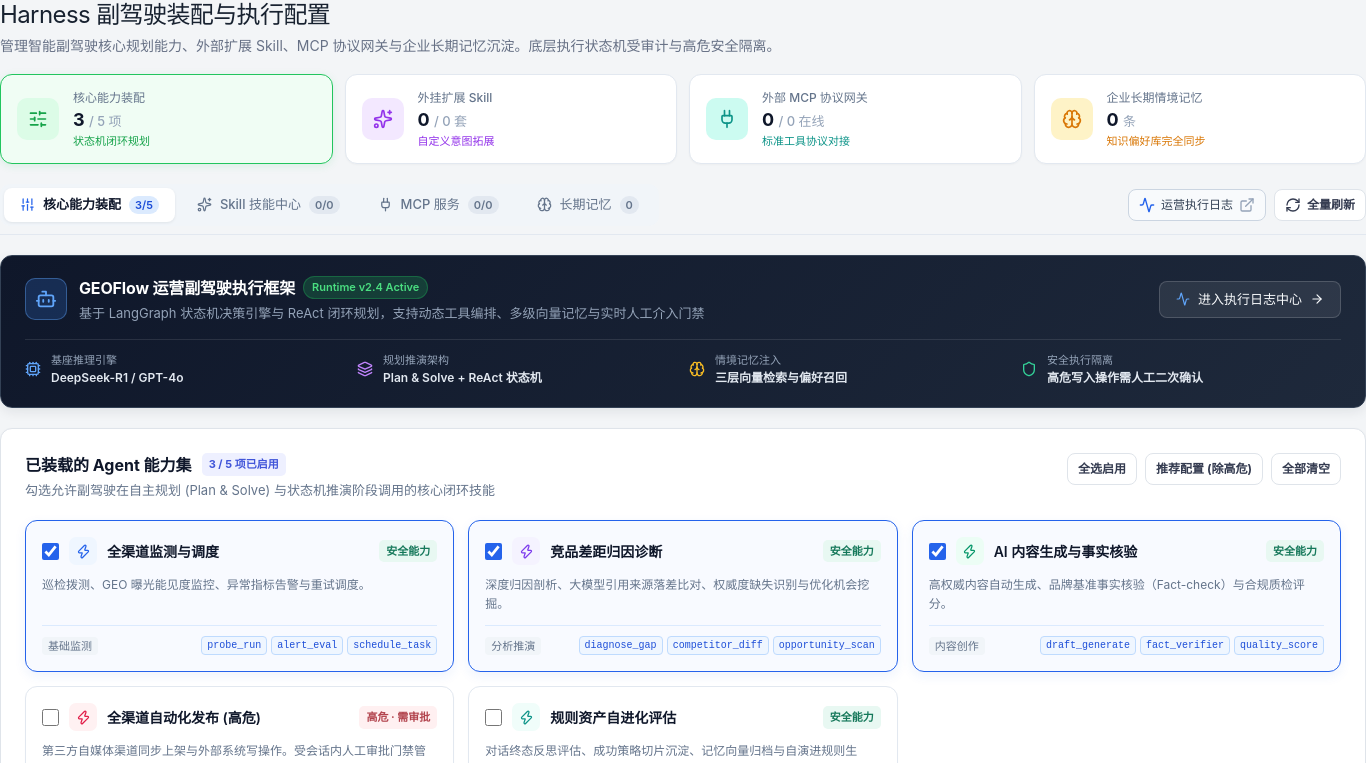
Test case: HarnessConfigView Component › switches to "长期记忆" tab and displays knowledge entries and filtering
The width and height of the screenshot is (1366, 763).
Click the tab "长期记忆 0" at (588, 205), box [520,188,655,222]
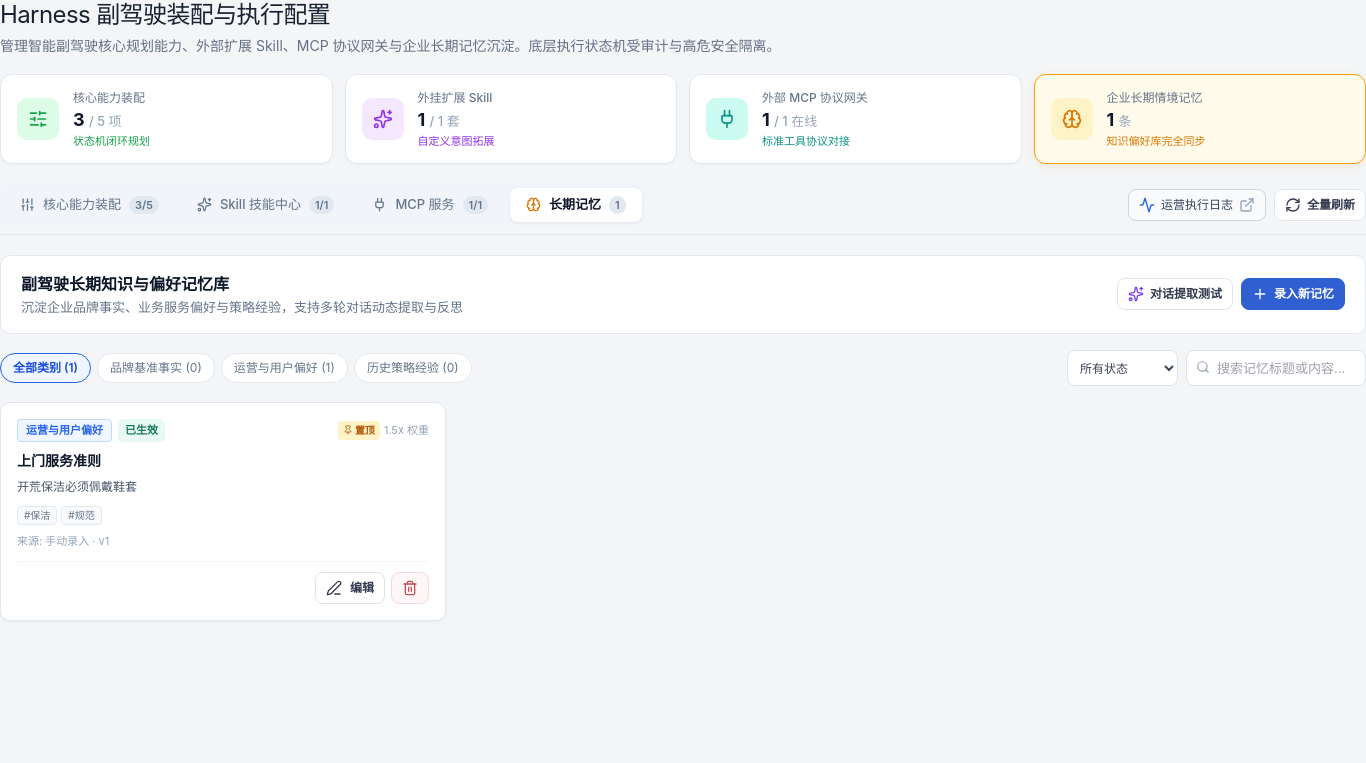
Now the heading "副驾驶长期知识与偏好记忆库" is shown, box [21,274,229,294]
Now the button "录入新记忆" is shown, box [1241,278,1345,310]
Now the button "对话提取测试" is shown, box [1117,278,1233,310]
